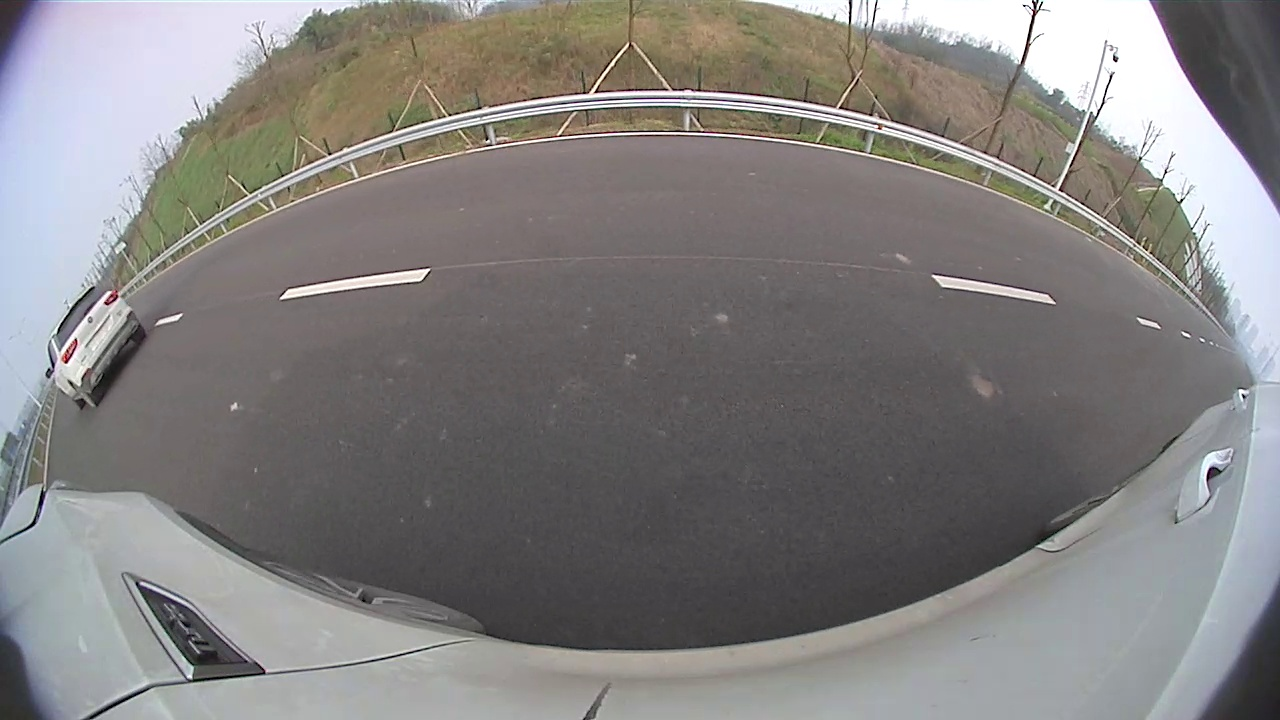car: (861, 89, 1159, 376)
front: (1099, 339, 1137, 376)
rear: (993, 292, 1063, 366)
